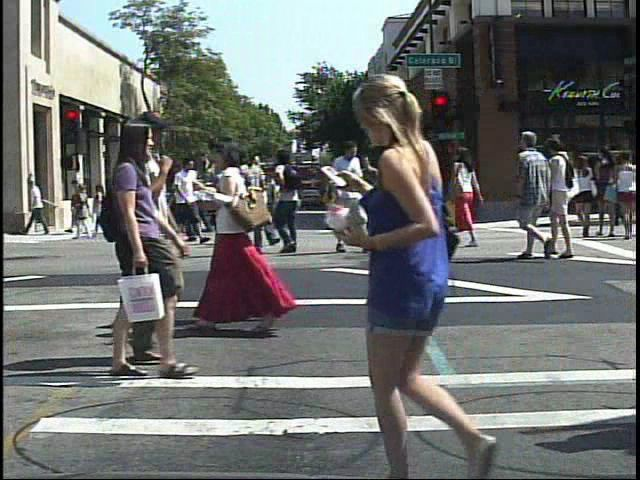person: (338, 68, 545, 479), (100, 107, 176, 372), (189, 135, 286, 338), (143, 109, 202, 370), (227, 132, 271, 334), (401, 134, 450, 262), (510, 126, 556, 262), (231, 138, 274, 261), (447, 144, 491, 255), (272, 150, 313, 258), (548, 135, 581, 259), (240, 149, 281, 248), (203, 153, 240, 250), (172, 156, 211, 243), (569, 148, 601, 242), (342, 139, 357, 256), (148, 173, 168, 242), (70, 182, 90, 232)
